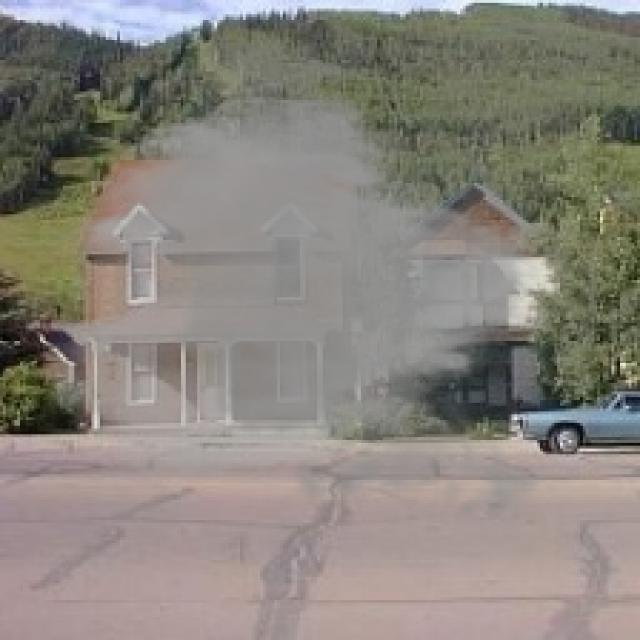Smoke: (37, 22, 597, 538)
